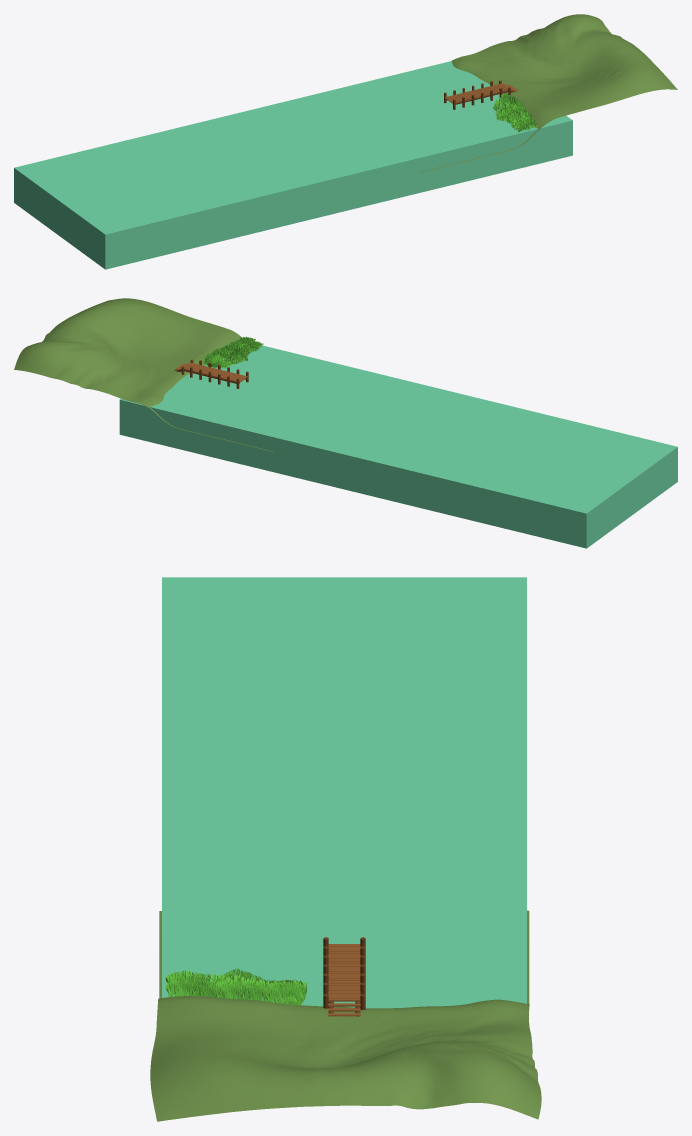
The model's file is testmap1.fbx.
3 renders of one model, top to bottom at view 1: azimuth 30°, elevation 25°; view 2: azimuth 150°, elevation 25°; view 3: azimuth 270°, elevation 25°, orthographic. The views are drawn at different scales.
Visible parts, largest first — view 1: Plane.001, Plane, Plane.002, Cube; view 2: Plane.001, Plane, Plane.002, Cube; view 3: Plane.001, Plane, Plane.002, Cube.
Part boxes in pixels (x1=…): Plane.001: x1=14, y1=61, x2=572, y2=269; Plane: x1=419, y1=14, x2=677, y2=172; Plane.002: x1=493, y1=93, x2=537, y2=131; Cube: x1=444, y1=84, x2=507, y2=103; Plane.001: x1=119, y1=345, x2=677, y2=548; Plane: x1=14, y1=298, x2=273, y2=451; Plane.002: x1=202, y1=336, x2=263, y2=368; Cube: x1=185, y1=363, x2=247, y2=382; Plane.001: x1=162, y1=577, x2=526, y2=1102; Plane: x1=150, y1=910, x2=541, y2=1121; Plane.002: x1=164, y1=968, x2=306, y2=1005; Cube: x1=328, y1=944, x2=360, y2=998.
Bounding box in the file's own units: 149 × 506 × 50.88.
